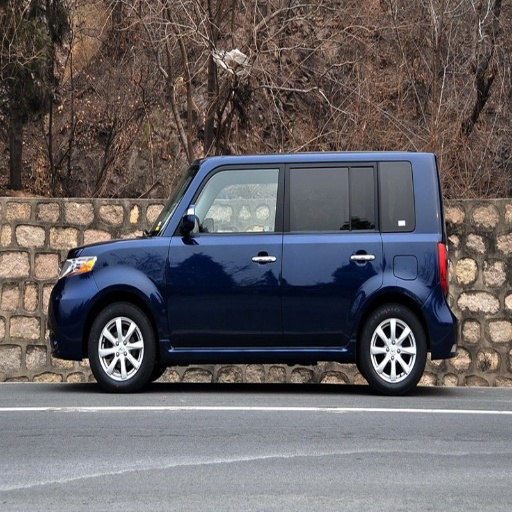back_left_door: (286, 161, 382, 346)
front_left_door: (166, 162, 285, 346)
